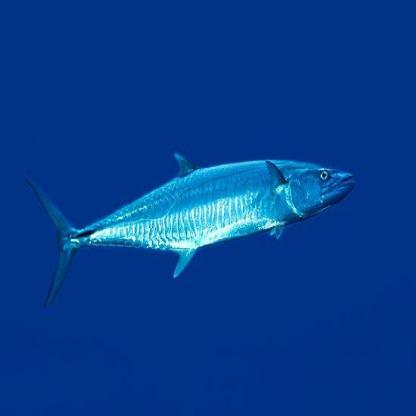Scombridae -Tunas-: (20, 150, 362, 309)
